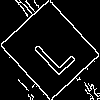L: (25, 25, 77, 78)
